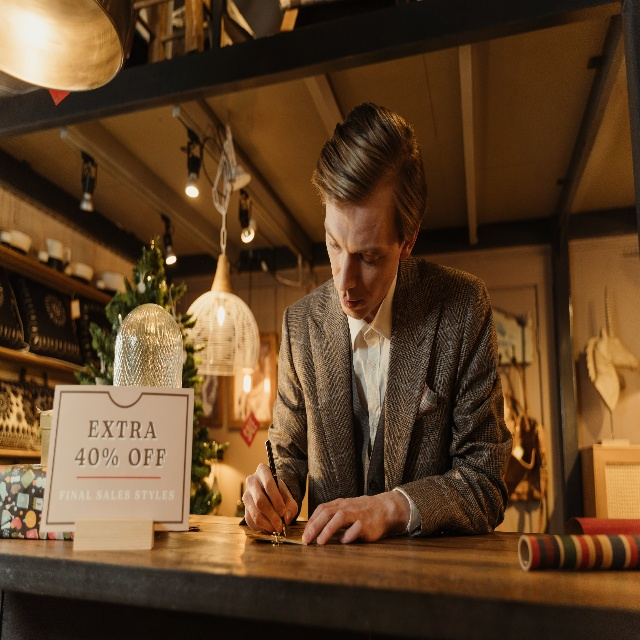Sin_guantes: (240, 462, 300, 539), (303, 494, 387, 545)
